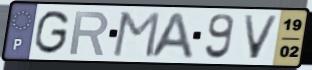9: (204, 12, 237, 61)
A: (147, 10, 196, 61)
G: (32, 8, 72, 56)
M: (110, 10, 163, 59)
R: (67, 9, 111, 57)
V: (241, 13, 282, 61)
